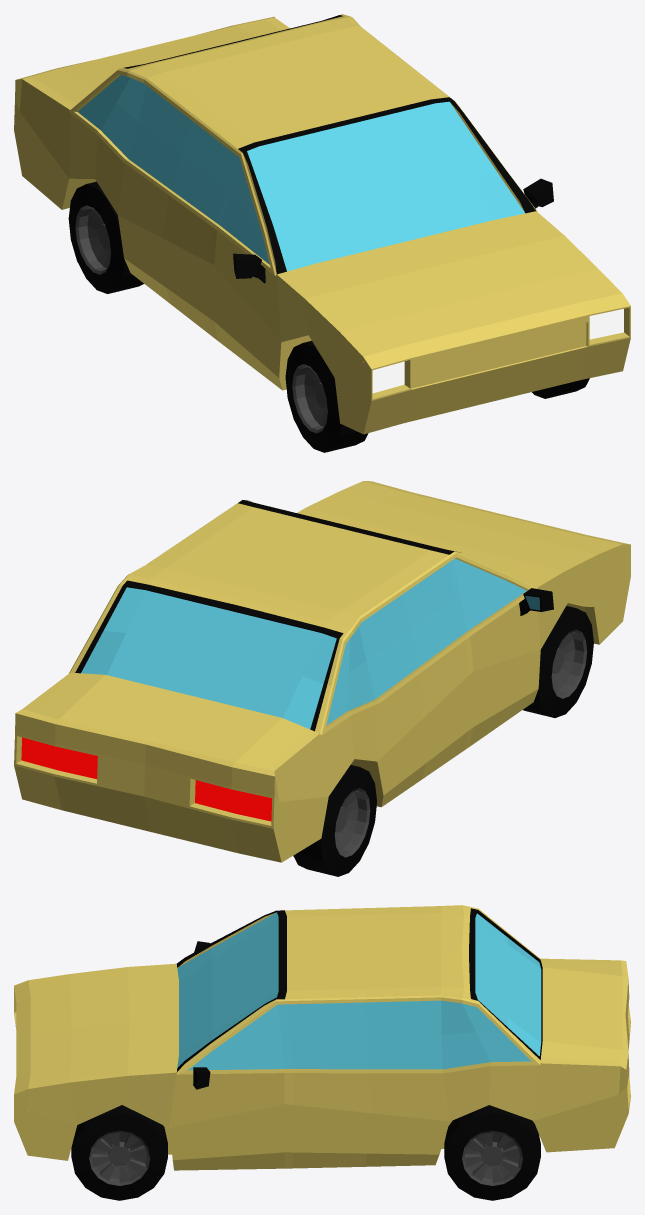
File: Toyota Corolla.glb
The picture shows the model from 3 angles, top to bottom: view 1: azimuth 30°, elevation 25°; view 2: azimuth 150°, elevation 25°; view 3: azimuth 270°, elevation 25°; orthographic projection. The views are drawn at different scales.
Visible parts, largest first — view 1: Cube, Wheel.002, Wheel.003; view 2: Cube, Wheel.003, Wheel.002; view 3: Cube, Wheel, Wheel.001.
Part boxes in pixels (<box>): Cube: <box>14,14,630,434</box>; Wheel.002: <box>285,340,368,452</box>; Wheel.003: <box>68,181,143,293</box>; Cube: <box>14,481,630,862</box>; Wheel.003: <box>293,765,376,876</box>; Wheel.002: <box>523,606,593,717</box>; Cube: <box>14,905,630,1170</box>; Wheel: <box>444,1105,540,1200</box>; Wheel.001: <box>71,1105,167,1200</box>.
Bounding box in the file's own units: 2.71 × 1.88 × 5.31.
